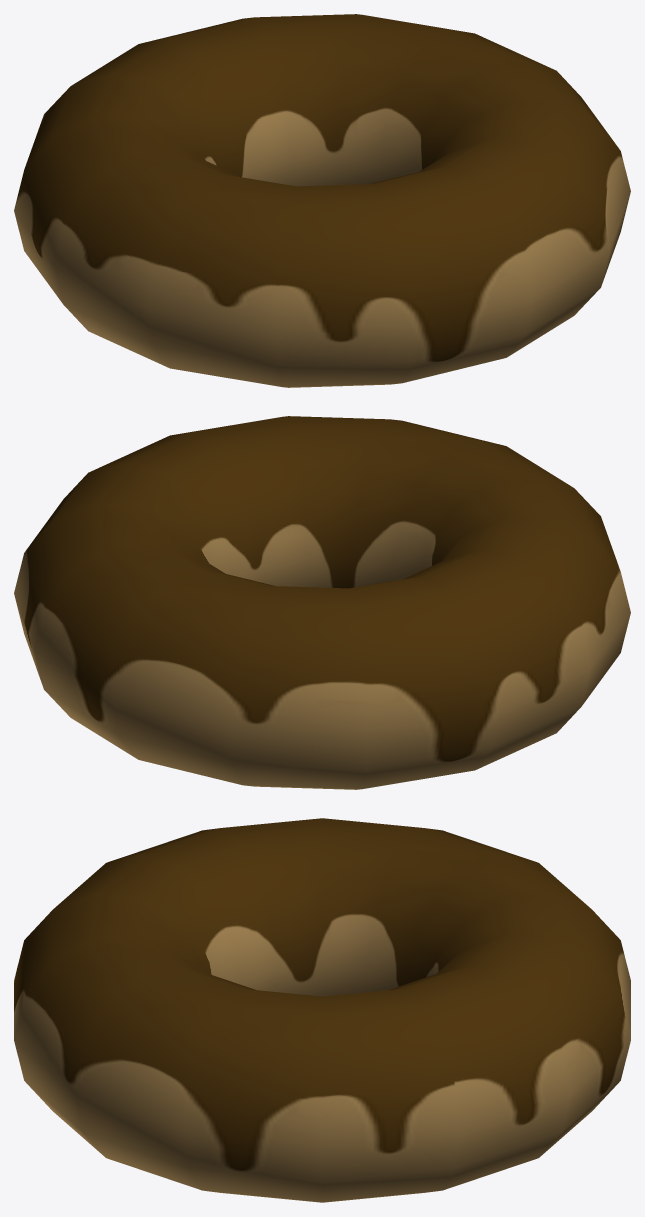
Rendered from Donuts.fbx.
3 views of the same model, one above another, from view 1: azimuth 30°, elevation 25°; view 2: azimuth 150°, elevation 25°; view 3: azimuth 270°, elevation 25° (orthographic). The views are drawn at different scales.
Parts seen in each view (by area): view 1: Donuts; view 2: Donuts; view 3: Donuts.
Boxes of the visible parts, x1,y1,x2,y2 form: Donuts: (14,14,630,387); Donuts: (14,416,630,789); Donuts: (14,818,630,1202).
Size of the model in its own units: 3 by 0.9749 by 2.92.
